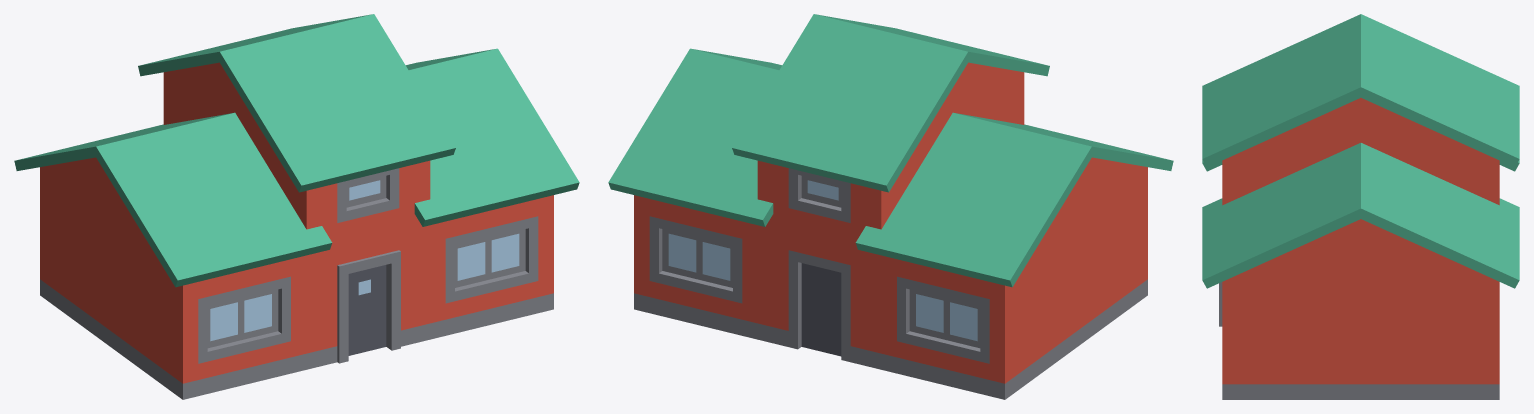
File: House Type 09.glb
3 renders of one model, left to right at view 1: azimuth 30°, elevation 25°; view 2: azimuth 150°, elevation 25°; view 3: azimuth 270°, elevation 25°, orthographic. The views are drawn at different scales.
Visible parts, largest first — view 1: house_type09; view 2: house_type09; view 3: house_type09.
Boxes of the visible parts, x1=… form: house_type09: x1=14, y1=14, x2=579, y2=399; house_type09: x1=608, y1=14, x2=1173, y2=399; house_type09: x1=1202, y1=14, x2=1519, y2=399.
Size of the model in its own units: 1.3 by 0.8335 by 0.9163.
